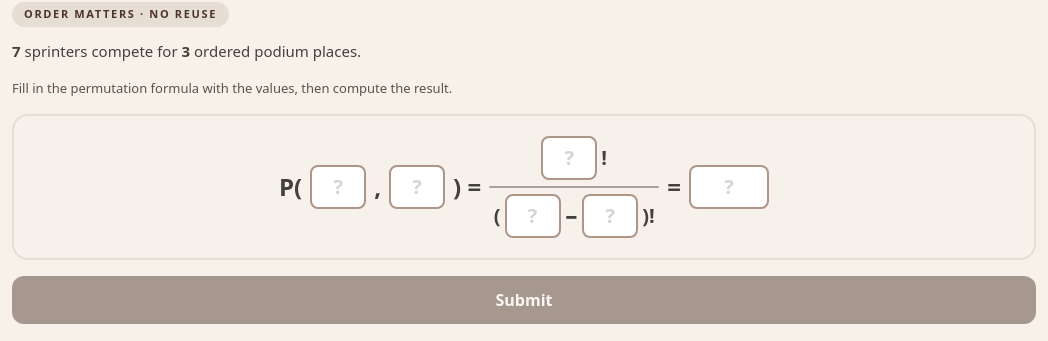
Test: quiz templates: submitting answers › permutation fill-formula (style 1) scores true when every blank is right
In the field named "formula notation n": (338, 187) 310,165 -> 366,209, type "7"
In the field named "formula notation k": (417, 187) 389,165 -> 445,209, type "3"
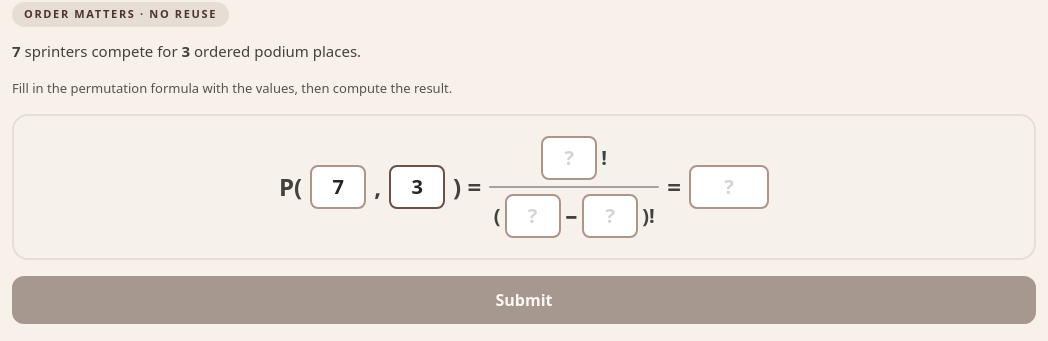
In the field named "formula numerator n": (569, 158) 541,136 -> 597,180, type "7"
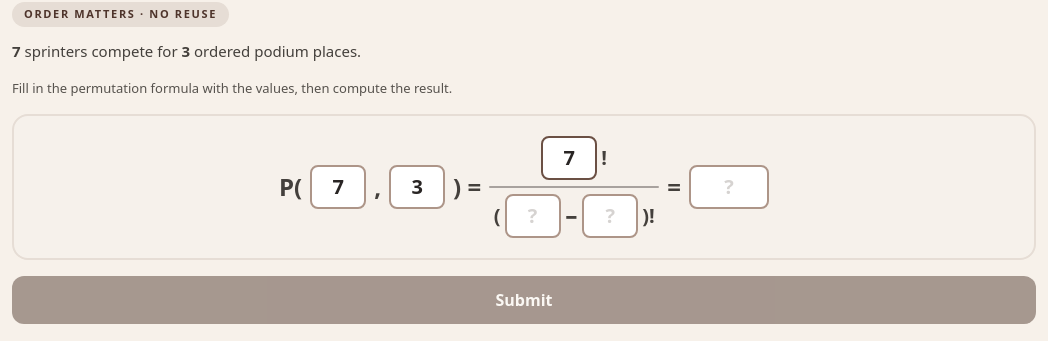
In the field named "formula denominator n": (532, 216) 504,194 -> 560,238, type "7"
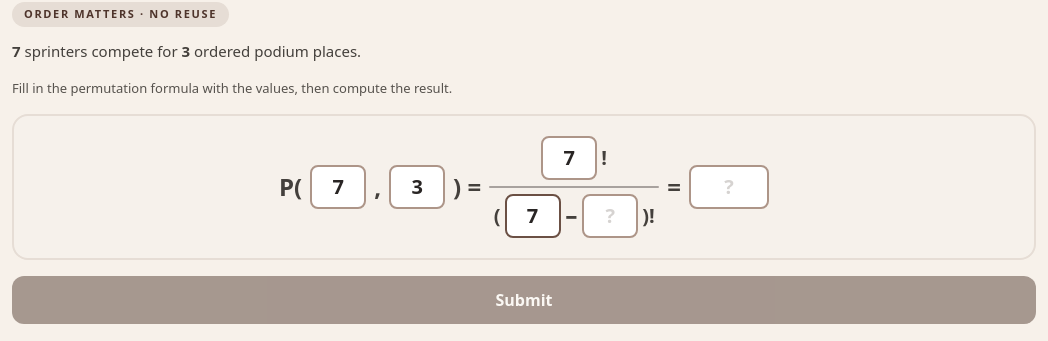
In the field named "formula denominator k": (610, 216) 582,194 -> 638,238, type "3"
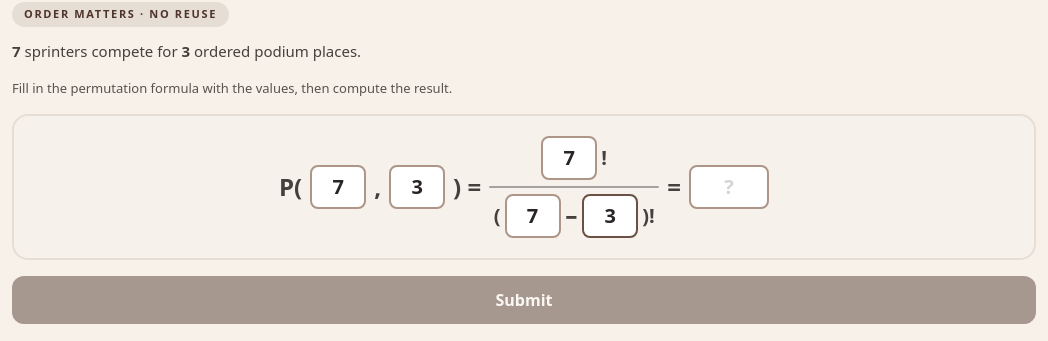
In the field named "formula result": (729, 187) 689,165 -> 769,209, type "210"
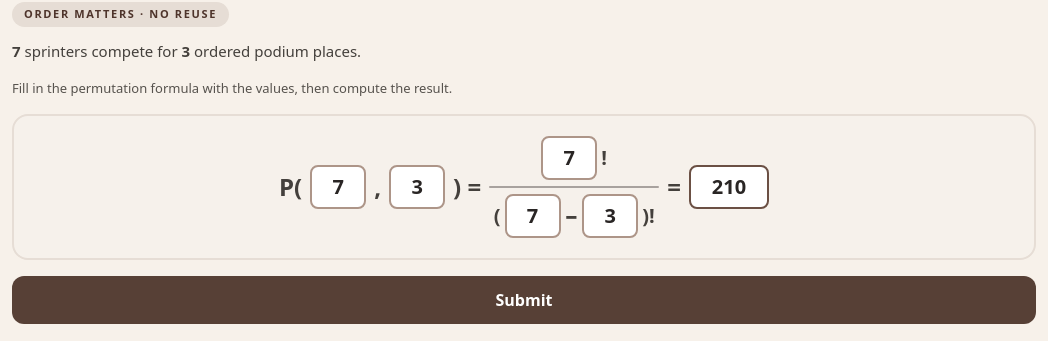
Click the button "Submit": click(524, 300) 12,276 -> 1036,324
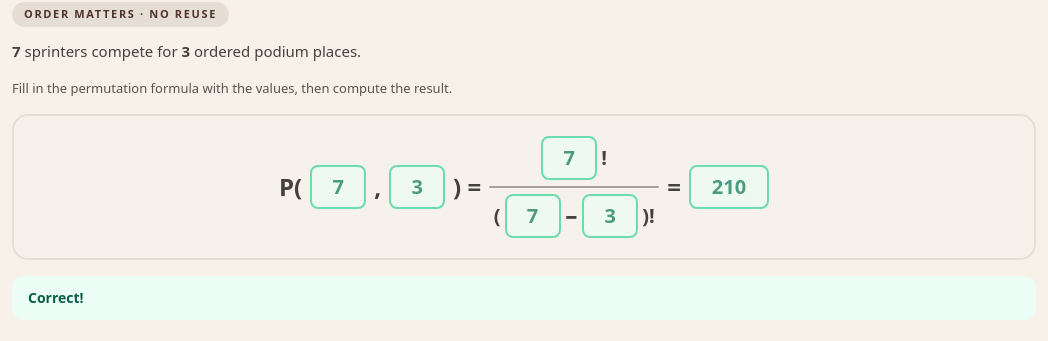
Check: the field named "formula result" is disabled, box 689,165 -> 769,209
